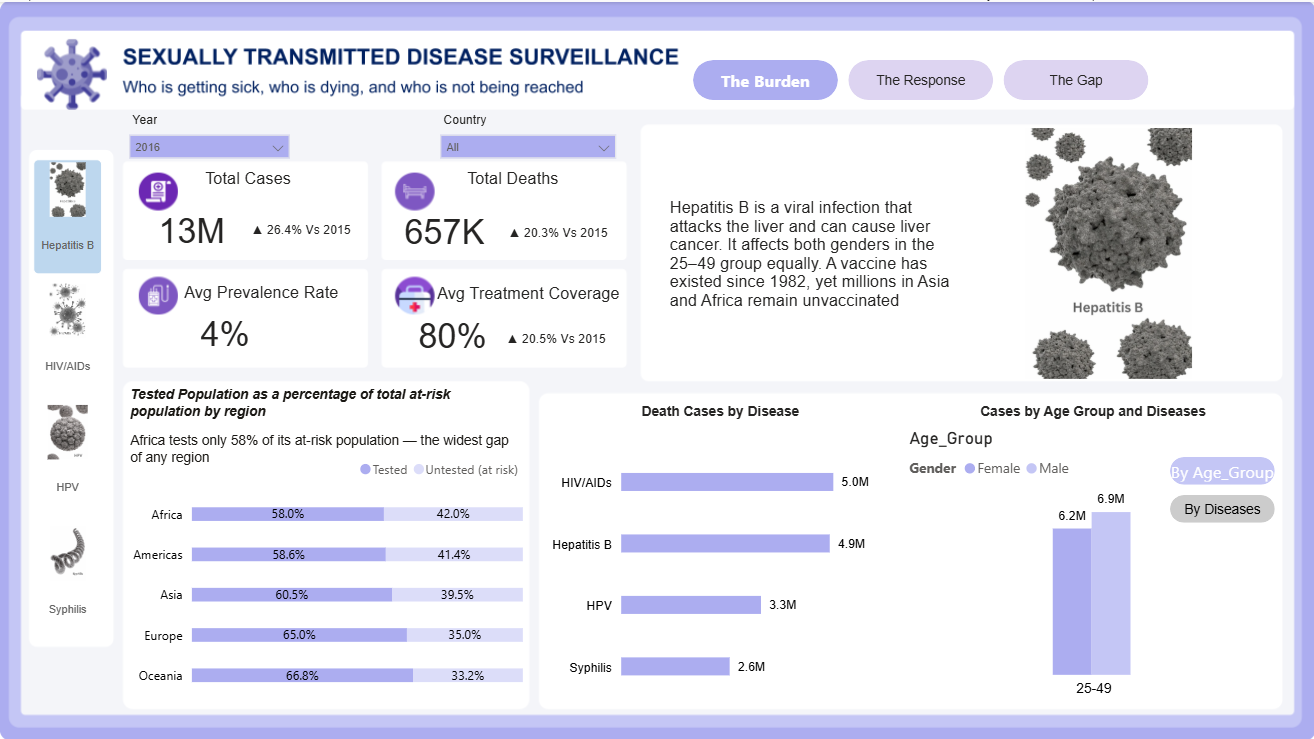

This screenshot's page, from the dashboard's own definition file:
{"tool":"powerbi","page":{"name":"The Burden","canvas":[1280,720],"ordinal":0},"visuals":[{"type":"cardVisual","fields":{"Data":["Health Dataset.Total Cases"]},"box":[137.1,187.7,133.3,72.9],"z":0},{"type":"clusteredColumnChart","title":"Age_Group","fields":{"Y":["Health Dataset.Total Cases"],"Category":["Health Dataset.Age_Group"],"Series":["Health Dataset.Gender"]},"box":[878.7,414.3,369.2,269.4],"z":0,"group":"g1"},{"type":"cardVisual","fields":{"Data":["Health Dataset.Total Deaths"]},"box":[376.4,193.6,118.7,67.1],"z":1000},{"type":"cardVisual","fields":{"Data":["Health Dataset.Avg Treatment Coverage %"]},"box":[390,292.8,171.2,69.1],"z":2000},{"type":"cardVisual","fields":{"Data":["Health Dataset.Avg Prevalence Rate %"]},"box":[178,291.8,148.8,68.1],"z":3000},{"type":"cardVisual","fields":{"Data":["Health Dataset.Total Cases YoY"]},"box":[227.6,195.5,131.3,52.5],"z":4000},{"type":"textbox","box":[194.5,157.6,116.7,32.1],"z":5000},{"type":"textbox","box":[420.2,269.4,188.7,32.1],"z":6000},{"type":"textbox","box":[174.1,268.4,184.8,32.1],"z":7000},{"type":"textbox","box":[449.4,157.6,116.7,32.1],"z":8000},{"type":"slicer","fields":{"Values":["Health Dataset.Year"]},"box":[115.7,103.1,176,55.4],"z":9000},{"type":"cardVisual","fields":{"Data":["Health Dataset.Treatment Coverage YoY"]},"box":[475.6,301.5,136.2,52.5],"z":10000},{"type":"cardVisual","fields":{"Data":["Health Dataset.Total Deaths YoY"]},"box":[477.6,198.4,131.3,52.5],"z":11000},{"type":"ChicletSlicer1448559807354","fields":{"Category":["Health Image Dataset HDC (2).Disease"],"Image":["Health Image Dataset HDC (2).Image URL"]},"box":[24.3,144.9,82.7,486.3],"z":12000},{"type":"group","id":"g1","title":"Demographics","box":[878,414.3,370.6,272],"z":15000},{"type":"bookmarkNavigator","box":[1138,442.6,102.1,65.2],"z":16000},{"type":"hundredPercentStackedBarChart","title":"Total Deaths by Disease","fields":{"Y":["Health Dataset.Total Tested","Health Dataset.Untested Population"],"Category":["Health Dataset.Region"]},"box":[119.6,434.8,393.9,249],"z":17000},{"type":"textbox","box":[121.6,366.7,392,44.7],"z":18000},{"type":"textbox","box":[878.3,383.2,369.6,28.2],"z":19000},{"type":"slicer","fields":{"Values":["Health Dataset.Country"]},"box":[418.2,103.1,190.6,54.5],"z":20000},{"type":"pageNavigator","box":[674,56.4,443.5,39.9],"z":21000},{"type":"textbox","box":[121.6,411.4,392,52.5],"z":22000},{"type":"clusteredBarChart","fields":{"Category":["Health Dataset.Disease"],"Y":["Health Dataset.Total Deaths"]},"box":[526.2,421.2,324.9,265.5],"z":23000},{"type":"textbox","box":[526.2,383.2,345.3,28.2],"z":24000},{"type":"cardVisual","fields":{"Data":["Health Dataset.Insight_P1"]},"box":[622.5,122.6,336.5,244.1],"z":25000},{"type":"image","box":[908.4,122.6,339.5,244.1],"z":25001}]}

Visuals, with their boxes in screenshot pixels (x1, y1, x2, y2), scaled from the page's 1280x720 canvas onto the 1314x739 screenshot:
cardVisual - Health Dataset.Total Cases: BBox(141, 193, 278, 267)
"Age_Group" clusteredColumnChart: BBox(902, 425, 1281, 702)
cardVisual - Health Dataset.Total Deaths: BBox(386, 199, 508, 268)
cardVisual - Health Dataset.Avg Treatment Coverage %: BBox(400, 301, 576, 371)
cardVisual - Health Dataset.Avg Prevalence Rate %: BBox(183, 300, 335, 369)
cardVisual - Health Dataset.Total Cases YoY: BBox(234, 201, 368, 255)
textbox: BBox(200, 162, 319, 195)
textbox: BBox(431, 277, 625, 309)
textbox: BBox(179, 275, 368, 308)
textbox: BBox(461, 162, 581, 195)
slicer - Health Dataset.Year: BBox(119, 106, 299, 163)
cardVisual - Health Dataset.Treatment Coverage YoY: BBox(488, 309, 628, 363)
cardVisual - Health Dataset.Total Deaths YoY: BBox(490, 204, 625, 258)
ChicletSlicer1448559807354 - Health Image Dataset HDC (2).Disease x Health Image Dataset HDC (2).Image URL: BBox(25, 149, 110, 648)
"Demographics" group: BBox(901, 425, 1282, 704)
bookmarkNavigator: BBox(1168, 454, 1273, 521)
"Total Deaths by Disease" hundredPercentStackedBarChart: BBox(123, 446, 527, 702)
textbox: BBox(125, 376, 527, 422)
textbox: BBox(902, 393, 1281, 422)
slicer - Health Dataset.Country: BBox(429, 106, 625, 162)
pageNavigator: BBox(692, 58, 1147, 99)
textbox: BBox(125, 422, 527, 476)
clusteredBarChart - Health Dataset.Disease x Health Dataset.Total Deaths: BBox(540, 432, 874, 705)
textbox: BBox(540, 393, 895, 422)
cardVisual - Health Dataset.Insight_P1: BBox(639, 126, 984, 376)
image: BBox(933, 126, 1281, 376)
